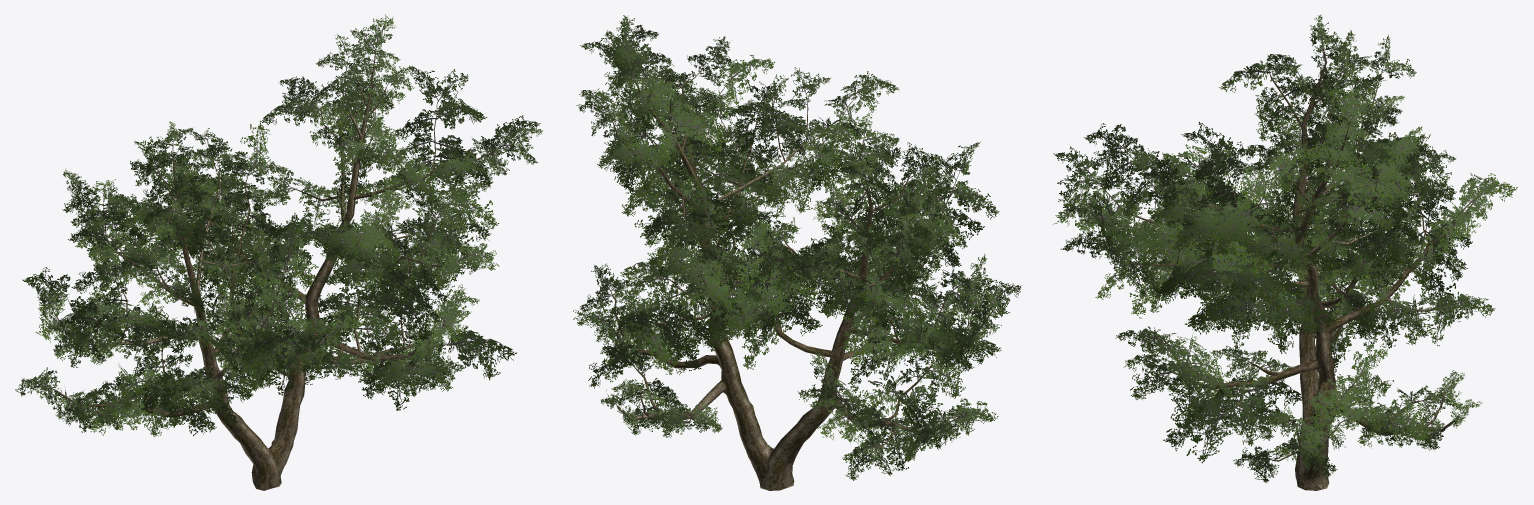
The model's file is tree_oak_b.glb.
3 views of the same model, side by side, from view 1: azimuth 30°, elevation 25°; view 2: azimuth 150°, elevation 25°; view 3: azimuth 270°, elevation 25° (orthographic). The views are drawn at different scales.
Visible parts, largest first — view 1: tree_oak_b; view 2: tree_oak_b; view 3: tree_oak_b.
Part boxes in pixels (x1,y1,x2,y2): tree_oak_b: (15,14,542,490); tree_oak_b: (573,15,1021,490); tree_oak_b: (1053,14,1517,490).
Size of the model in its own units: 88.15 by 78 by 70.37.
Materials: 2 (2 with a texture image).
